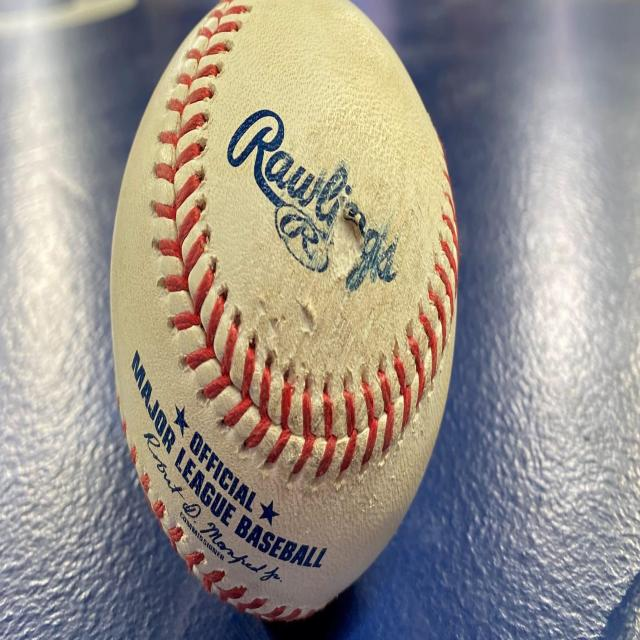baseball: (111, 2, 456, 624)
